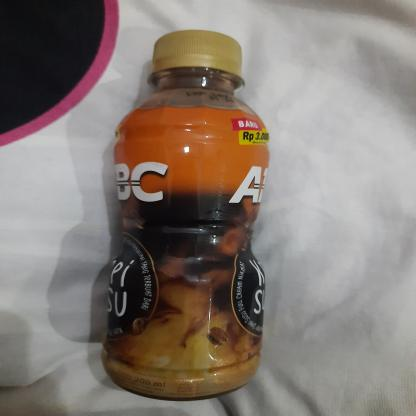bottle: (100, 27, 272, 401)
